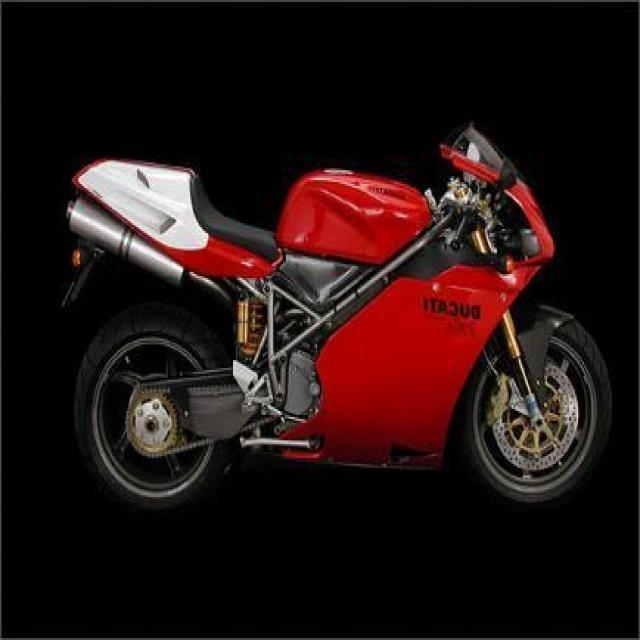Motorcycle: (67, 111, 621, 518)
